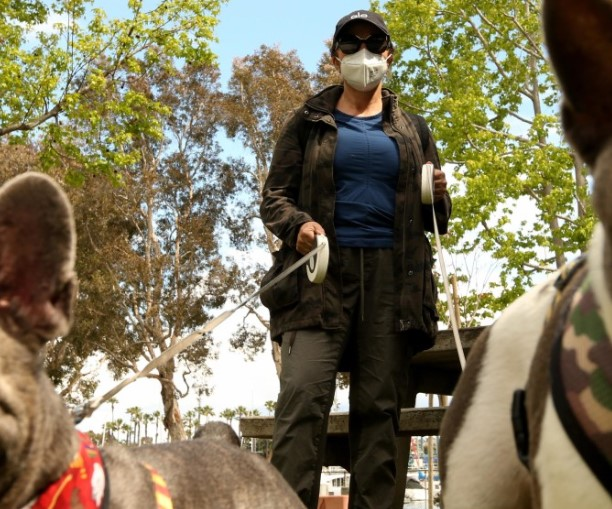face_with_mask: (329, 13, 395, 97)
